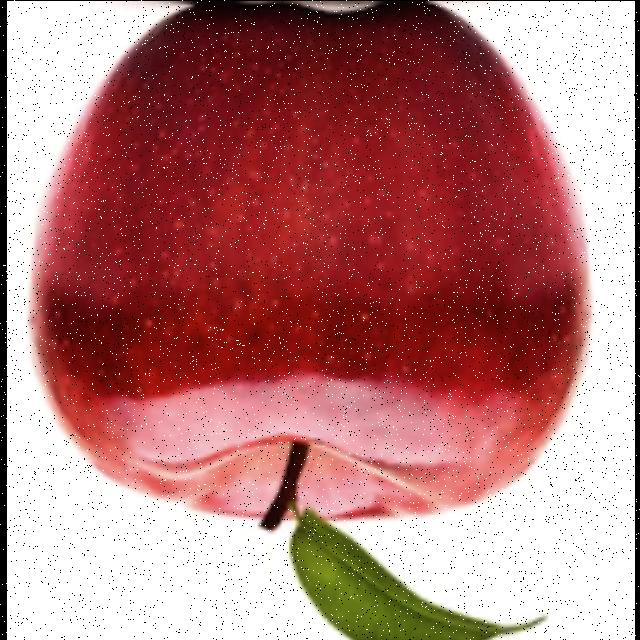Apel Segar: (24, 1, 586, 530)
